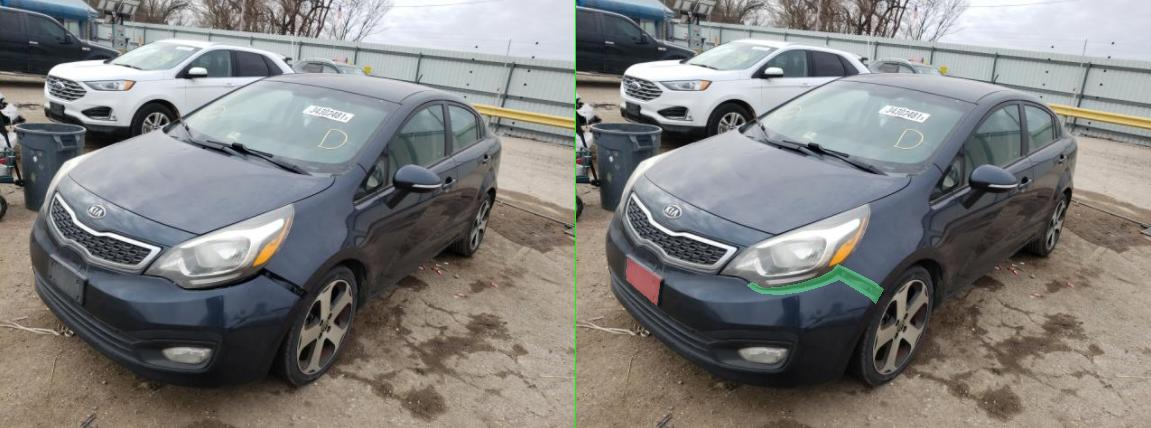Broken part: (342, 264, 615, 303)
Missing part: (100, 258, 168, 305)
